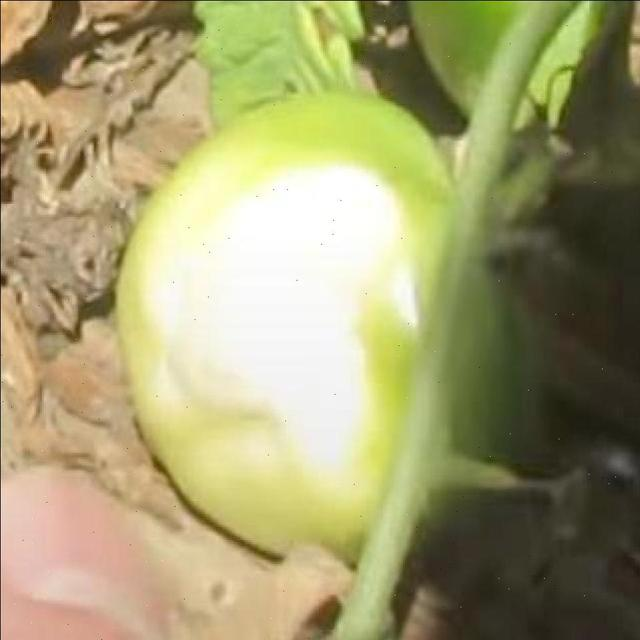Sunscald Fruit: (82, 97, 264, 342)
